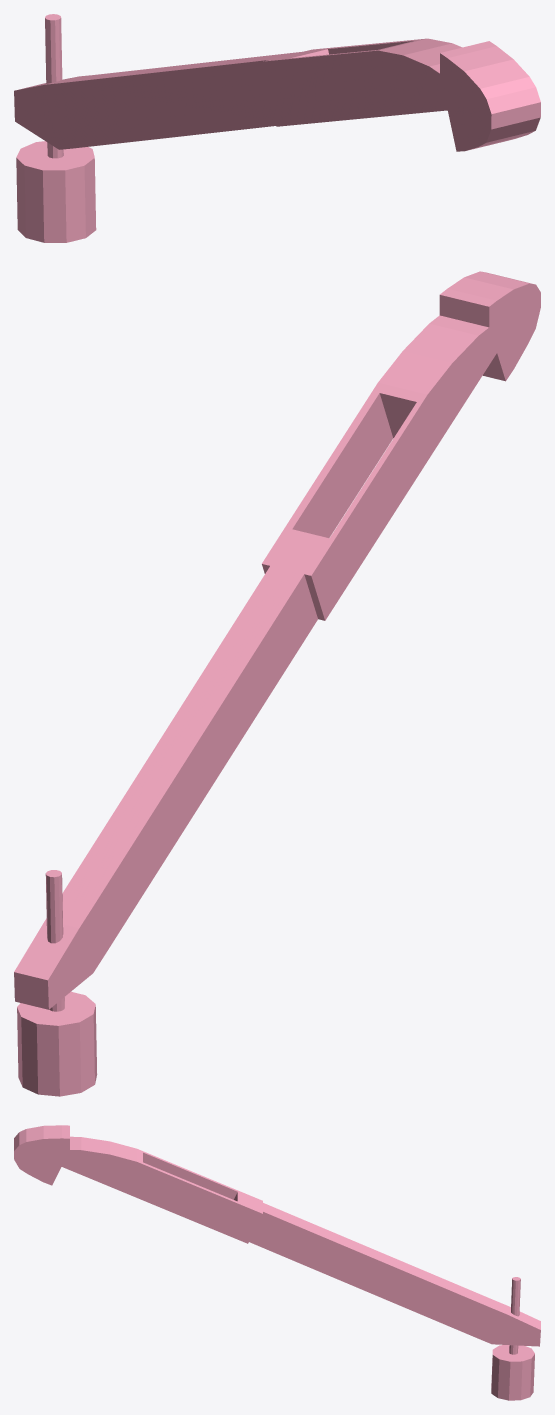
File: key_repetition_lever.obj
The picture shows the model from 3 angles, top to bottom: view 1: azimuth 30°, elevation 25°; view 2: azimuth 150°, elevation 25°; view 3: azimuth 270°, elevation 25°; orthographic projection. The views are drawn at different scales.
Parts seen in each view (by area): view 1: white_keys.012_Cube.051; view 2: white_keys.012_Cube.051; view 3: white_keys.012_Cube.051.
Part boxes in pixels (left/top/right/bottom): white_keys.012_Cube.051: left=14, top=14, right=540, bottom=242; white_keys.012_Cube.051: left=14, top=271, right=540, bottom=1096; white_keys.012_Cube.051: left=14, top=1125, right=540, bottom=1400.
Bounding box in the file's own units: 0.00976 × 0.0657 × 0.1203.
Materials: 1 (1 with a texture image).
